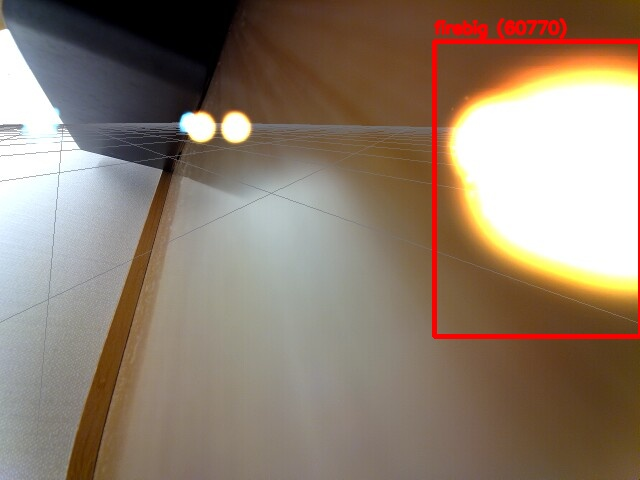firebig: (434, 41, 640, 336)
